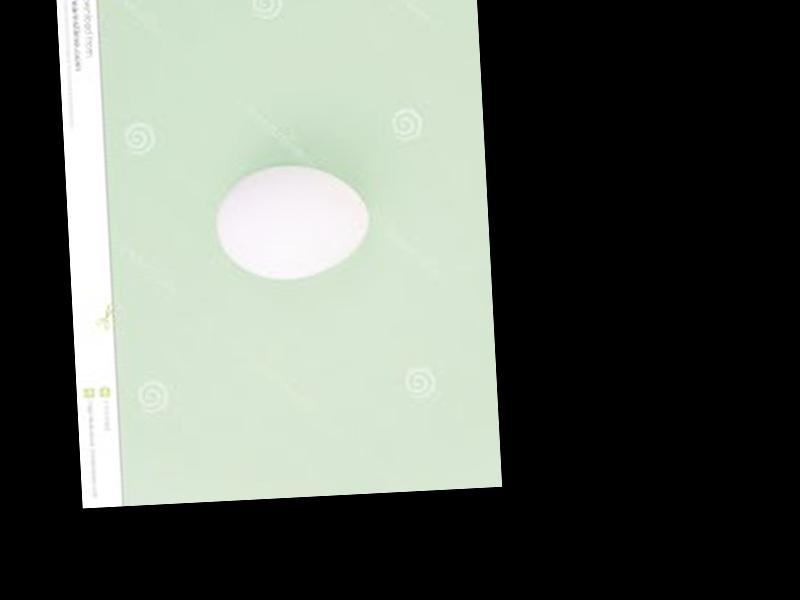Eggs: (214, 160, 369, 280)
